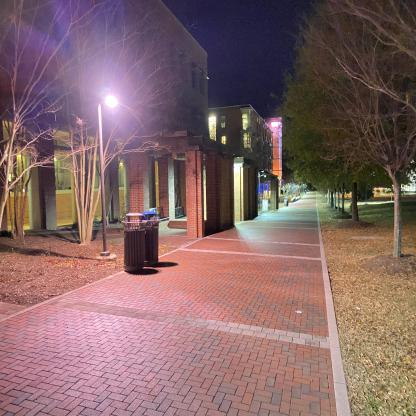eb2: (0, 1, 210, 229)
